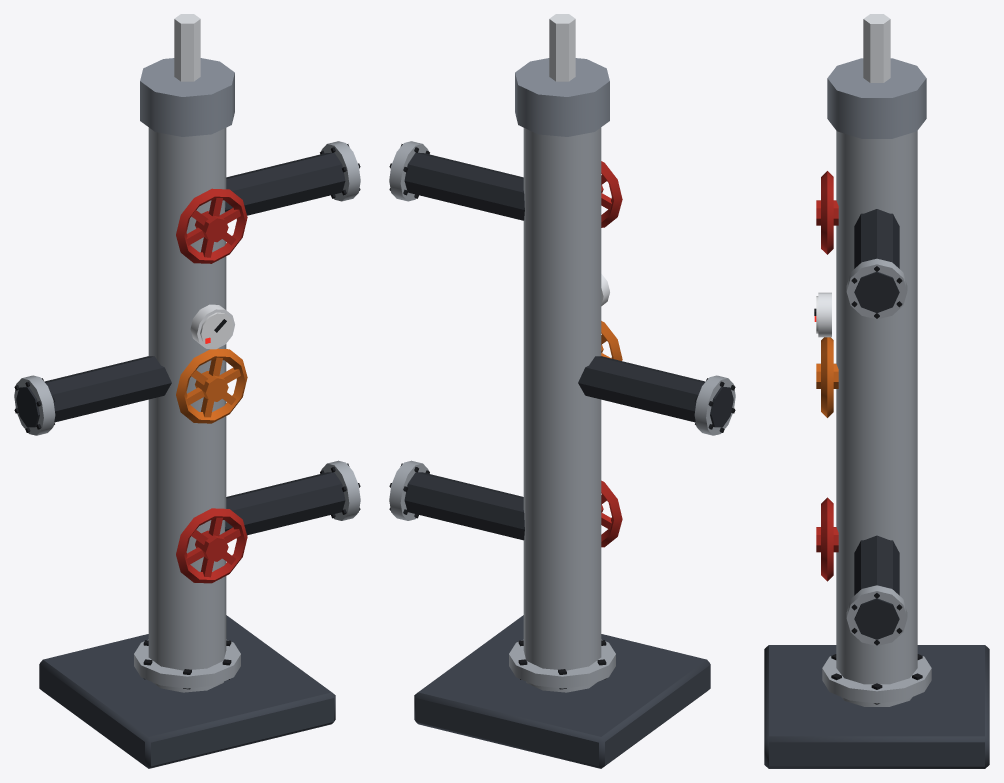
Rendered from valve_valve_tree.glb.
3 views of the same model, side by side, from view 1: azimuth 30°, elevation 25°; view 2: azimuth 150°, elevation 25°; view 3: azimuth 270°, elevation 25° (orthographic). The views are drawn at different scales.
Parts seen in each view (by area): view 1: valve_valve_tree; view 2: valve_valve_tree; view 3: valve_valve_tree.
Part boxes in pixels (x1,y1,x2,y2): valve_valve_tree: [14, 14, 360, 768]; valve_valve_tree: [389, 14, 735, 768]; valve_valve_tree: [764, 14, 989, 768].
Bounding box in the file's own units: 0.842 × 1.73 × 0.5.
